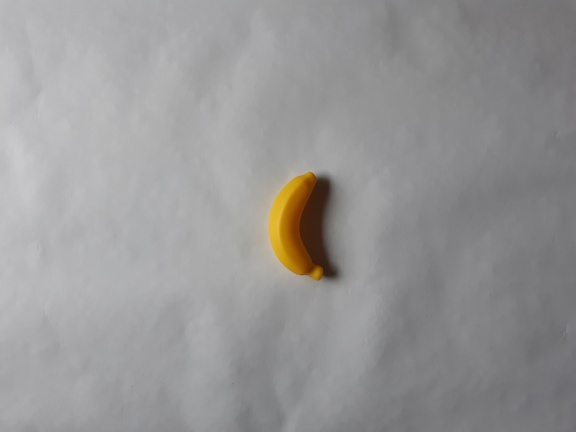banana: (260, 167, 342, 285)
